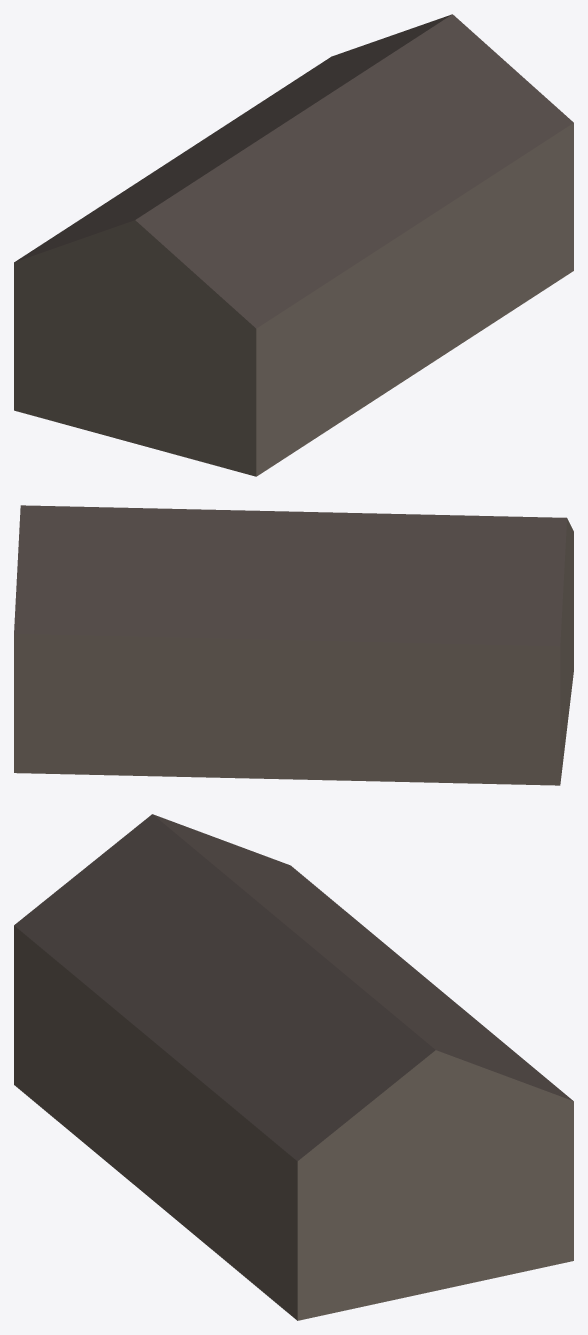
The picture shows the model from 3 angles, top to bottom: view 1: azimuth 30°, elevation 25°; view 2: azimuth 150°, elevation 25°; view 3: azimuth 270°, elevation 25°; orthographic projection. The views are drawn at different scales.
Parts seen in each view (by area): view 1: HP-w859447909; view 2: HP-w859447909; view 3: HP-w859447909.
Part boxes in pixels (left/top/right/bottom): HP-w859447909: left=14, top=14, right=573, bottom=476; HP-w859447909: left=14, top=505, right=573, bottom=785; HP-w859447909: left=14, top=814, right=573, bottom=1320.
Size of the model in its own units: 23.88 by 9.06 by 19.09.
